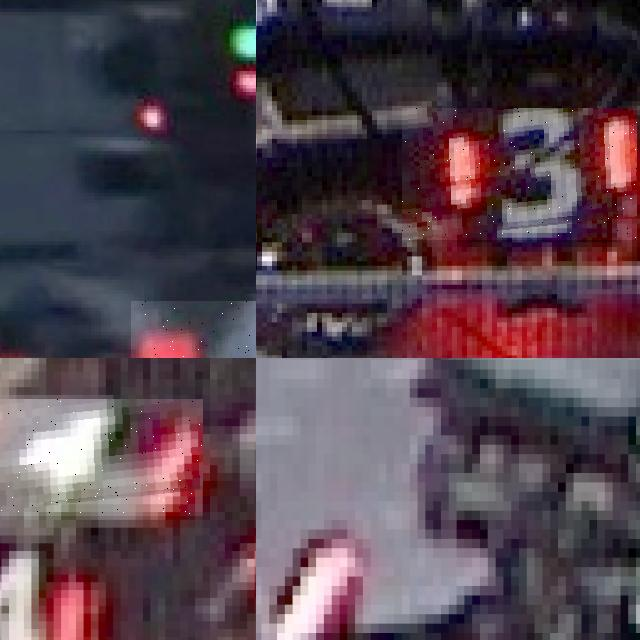R3: (402, 108, 637, 240)
R4: (0, 399, 202, 516), (0, 527, 113, 640)
